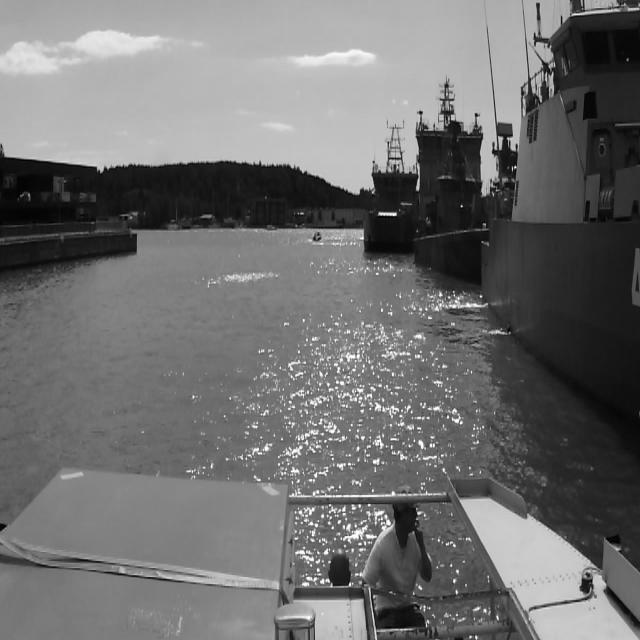ship: (482, 0, 640, 432), (414, 152, 494, 271), (360, 113, 420, 260), (312, 228, 322, 242)
